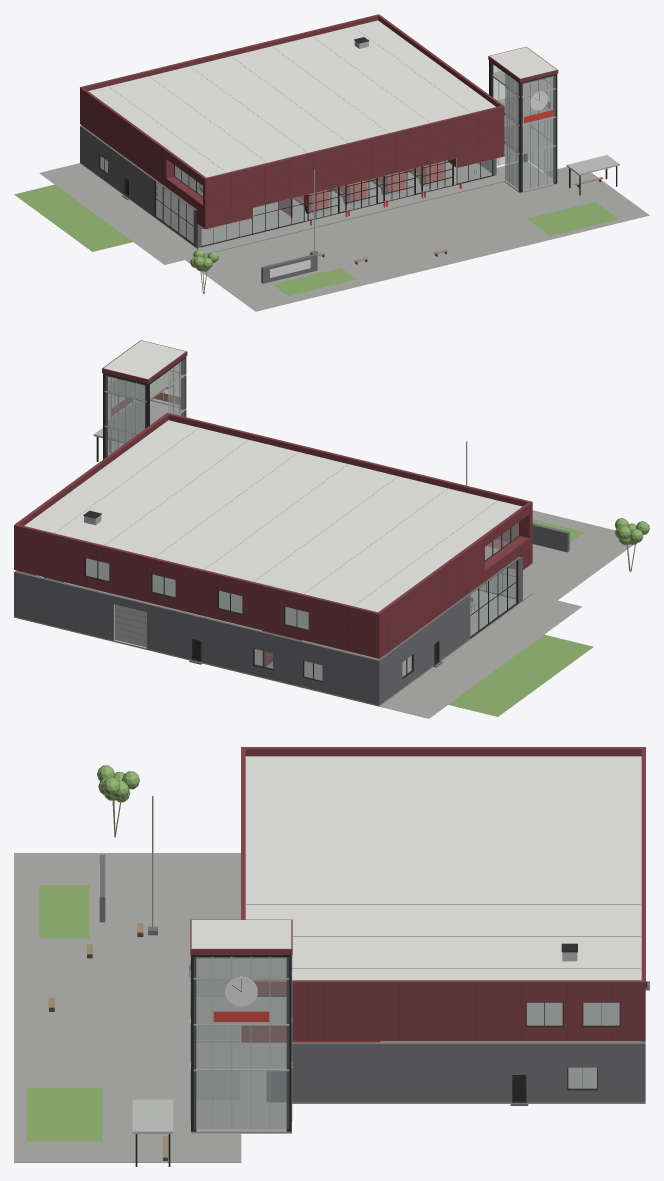
Rendered from clay-cantilever-fire-station-clay-v003.glb.
3 renders of one model, top to bottom at view 1: azimuth 30°, elevation 25°; view 2: azimuth 150°, elevation 25°; view 3: azimuth 270°, elevation 25°, orthographic. The views are drawn at different scales.
Visible parts, largest first — view 1: CLAY_FOUNDATION, CLAY_ROOF, CLAY_WALL, CLAY_GLASS, CLAY_PLANTING, CLAY_TRIM, CLAY_STONE, CLAY_PALE, CLAY_FLOOR, CLAY_RED, CLAY_WHITE, CLAY_JOINT (+1 smaller); view 2: CLAY_ROOF, CLAY_WALL, CLAY_STONE, CLAY_FOUNDATION, CLAY_GLASS, CLAY_PLANTING, CLAY_FLOOR, CLAY_TRIM, CLAY_PALE, CLAY_JOINT; view 3: CLAY_ROOF, CLAY_FOUNDATION, CLAY_WALL, CLAY_STONE, CLAY_GLASS, CLAY_PLANTING, CLAY_FLOOR, CLAY_PALE, CLAY_TRIM, CLAY_JOINT, CLAY_WHITE, CLAY_RED.
Part boxes in pixels (left/top/right/bottom): CLAY_FOUNDATION: left=39, top=157, right=649, bottom=311; CLAY_ROOF: left=88, top=20, right=556, bottom=177; CLAY_WALL: left=80, top=14, right=558, bottom=229; CLAY_GLASS: left=100, top=65, right=555, bottom=245; CLAY_PLANTING: left=14, top=184, right=618, bottom=295; CLAY_TRIM: left=98, top=37, right=617, bottom=247; CLAY_STONE: left=80, top=125, right=496, bottom=283; CLAY_PALE: left=156, top=40, right=619, bottom=252; CLAY_FLOOR: left=175, top=72, right=553, bottom=196; CLAY_RED: left=293, top=102, right=553, bottom=225; CLAY_WHITE: left=270, top=91, right=547, bottom=277; CLAY_JOINT: left=110, top=27, right=499, bottom=209; CLAY_ROOF: left=24, top=340, right=522, bottom=611; CLAY_WALL: left=14, top=340, right=532, bottom=666; CLAY_STONE: left=14, top=523, right=569, bottom=705; CLAY_FOUNDATION: left=14, top=510, right=643, bottom=718; CLAY_GLASS: left=37, top=358, right=518, bottom=680; CLAY_PLANTING: left=448, top=518, right=649, bottom=716; CLAY_FLOOR: left=86, top=371, right=499, bottom=629; CLAY_TRIM: left=39, top=357, right=519, bottom=682; CLAY_PALE: left=84, top=362, right=467, bottom=648; CLAY_JOINT: left=22, top=431, right=520, bottom=653; CLAY_ROOF: left=191, top=756, right=641, bottom=980; CLAY_FOUNDATION: left=14, top=853, right=645, bottom=1162; CLAY_WALL: left=190, top=747, right=645, bottom=1042; CLAY_STONE: left=99, top=854, right=649, bottom=1105; CLAY_GLASS: left=194, top=957, right=619, bottom=1129; CLAY_PLANTING: left=26, top=765, right=139, bottom=1141; CLAY_FLOOR: left=196, top=958, right=619, bottom=1069; CLAY_PALE: left=132, top=795, right=577, bottom=1133; CLAY_TRIM: left=135, top=943, right=647, bottom=1166; CLAY_JOINT: left=246, top=904, right=640, bottom=1040; CLAY_WHITE: left=99, top=865, right=257, bottom=1006; CLAY_RED: left=190, top=1004, right=380, bottom=1042.
Bounding box in the file's own units: 68 × 16.11 × 50.34.
